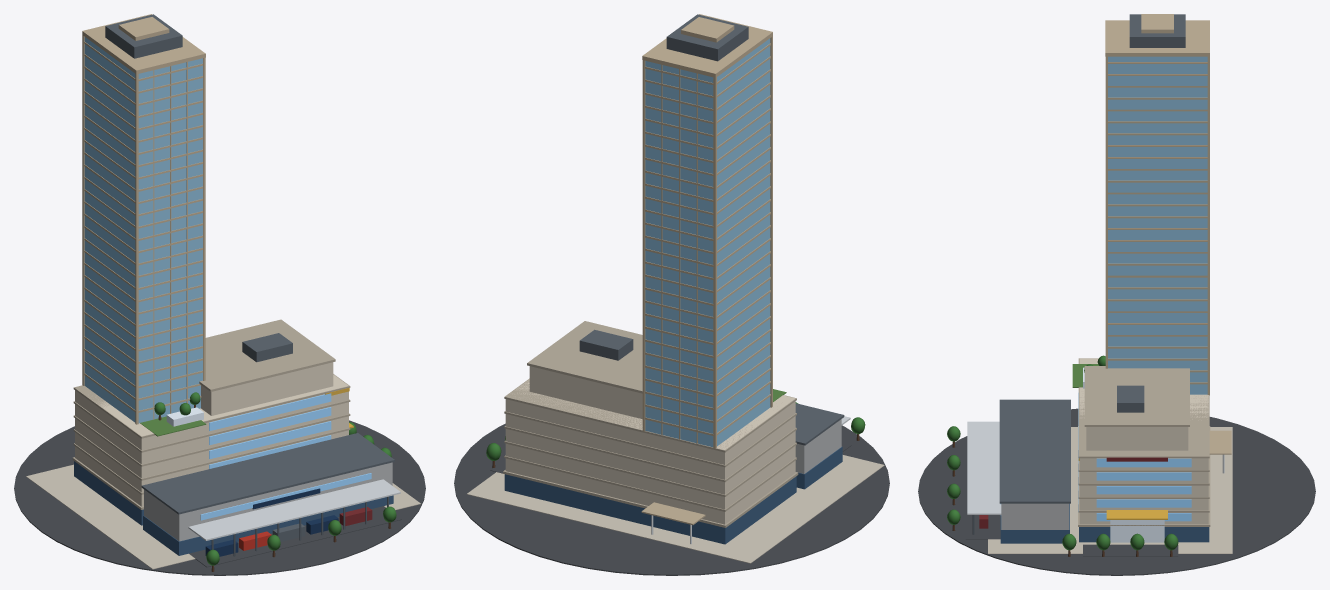
Rendered from central-city.glb.
3 views of the same model, side by side, from view 1: azimuth 30°, elevation 25°; view 2: azimuth 150°, elevation 25°; view 3: azimuth 270°, elevation 25° (orthographic). The views are drawn at different scales.
Bounding box in the file's own units: 117 × 144 × 117.
